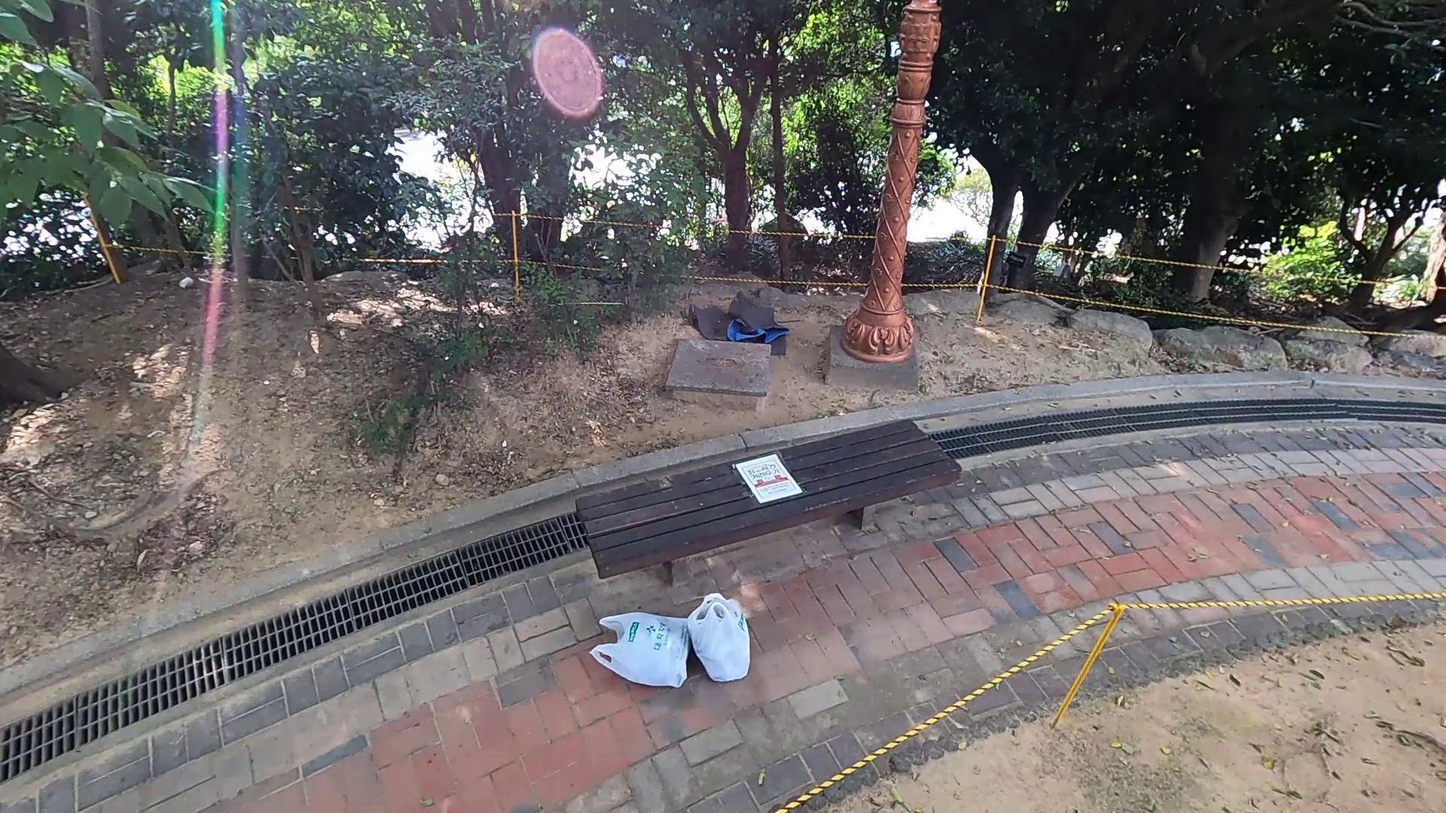trash: (588, 608, 703, 691), (684, 589, 759, 691)
